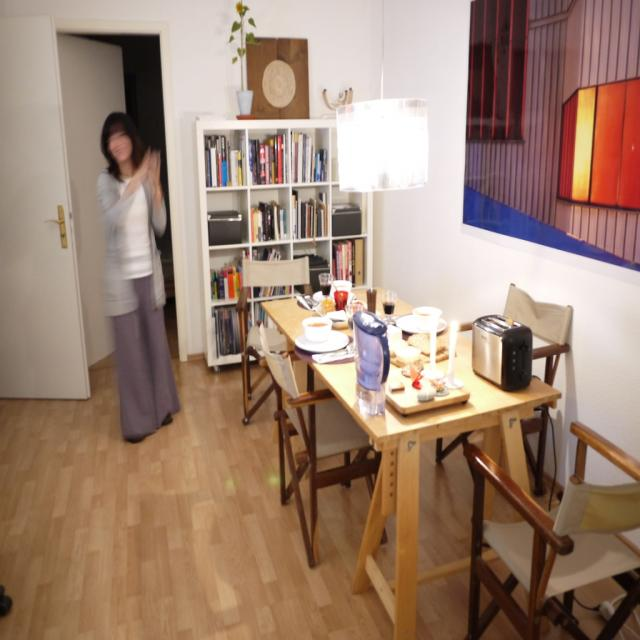chair: (464, 420, 640, 640), (258, 332, 380, 570), (502, 283, 574, 504), (240, 257, 308, 425)
desk: (277, 313, 561, 625)
person: (96, 112, 180, 442)
